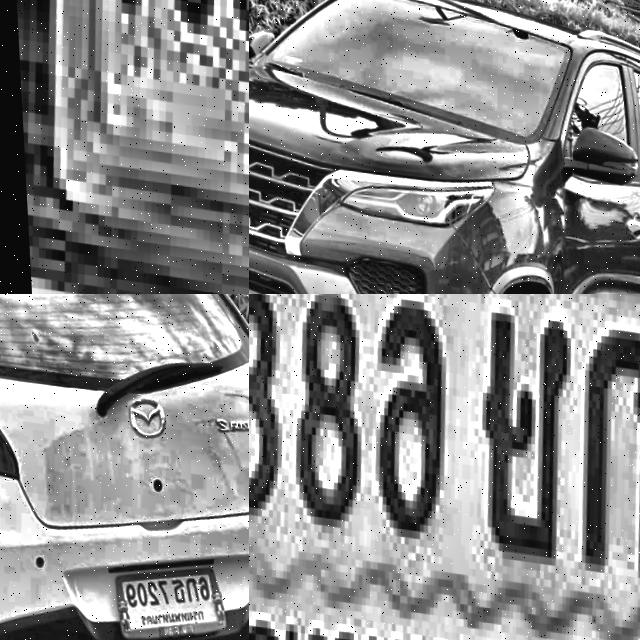license-plate: (249, 294, 640, 640), (14, 0, 249, 294), (101, 536, 225, 640)
